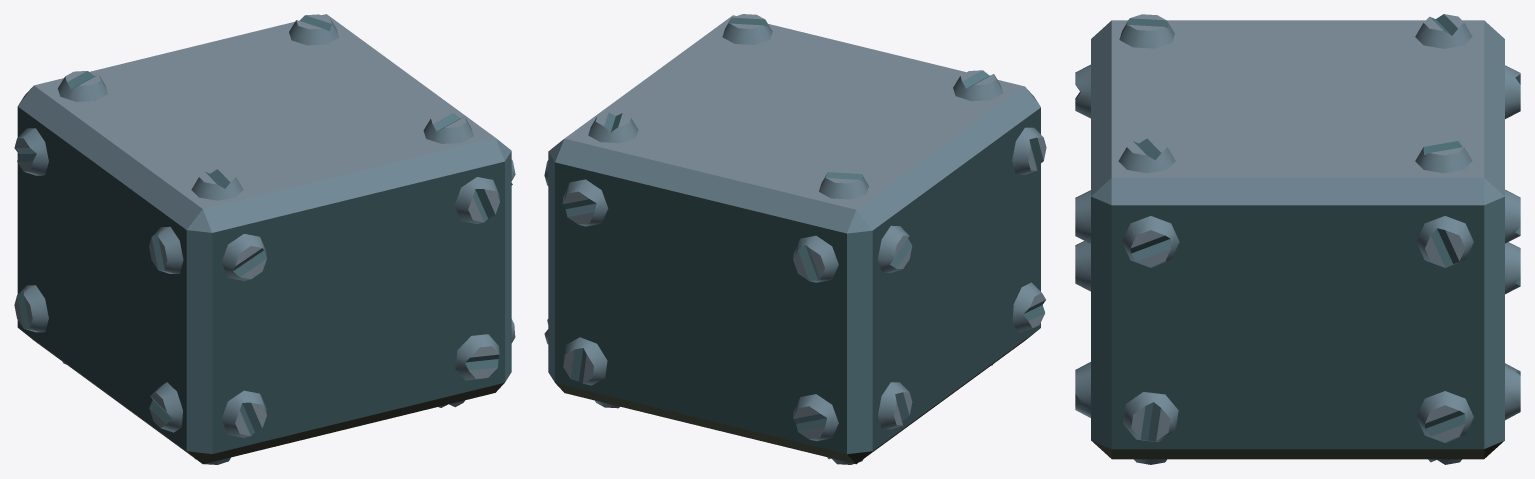
The model's file is m_kub_metal_cubeMid.FBX.
3 renders of one model, left to right at view 1: azimuth 30°, elevation 25°; view 2: azimuth 150°, elevation 25°; view 3: azimuth 270°, elevation 25°, orthographic. The views are drawn at different scales.
Visible parts, largest first — view 1: m_kub_metal_cubeMid; view 2: m_kub_metal_cubeMid; view 3: m_kub_metal_cubeMid.
Boxes of the visible parts, x1,y1,x2,y2 form: m_kub_metal_cubeMid: (14, 14, 515, 464); m_kub_metal_cubeMid: (544, 14, 1046, 464); m_kub_metal_cubeMid: (1075, 14, 1520, 464).
Bounding box in the file's own units: 2.15 × 1.65 × 2.15.
